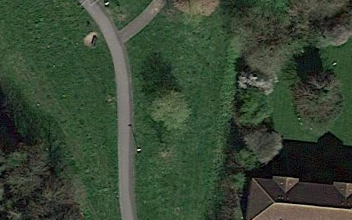tree: (286, 68, 346, 130), (135, 79, 199, 135), (229, 79, 279, 127), (240, 125, 285, 163)
